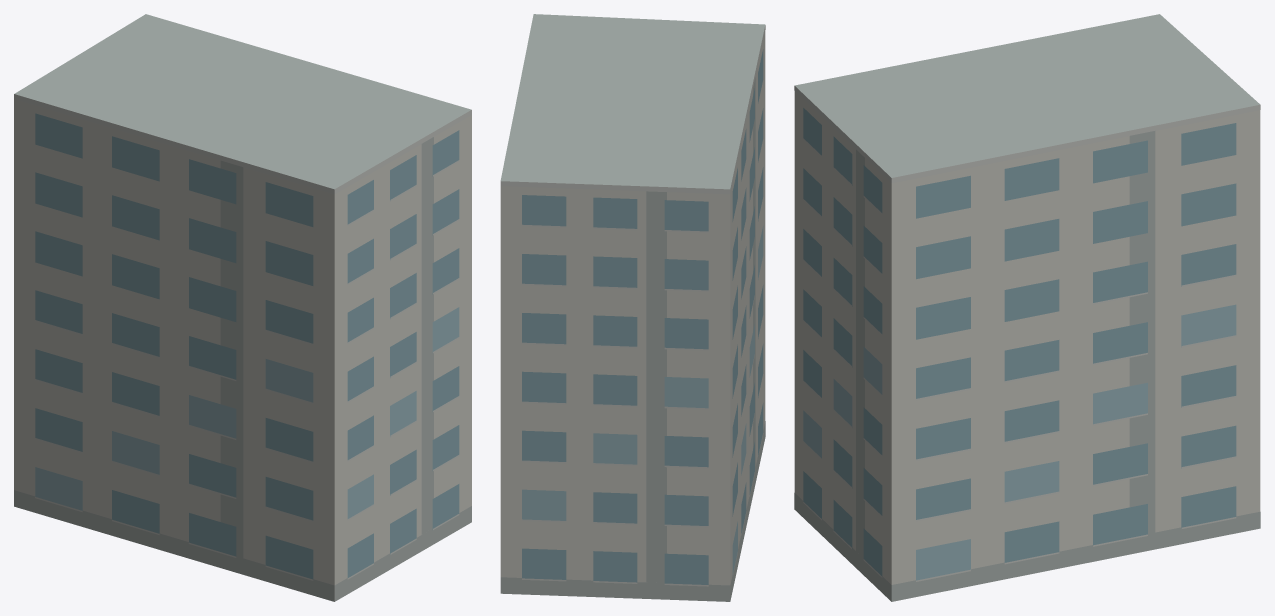
The model's file is survey-upis-33029369.glb.
3 views of the same model, side by side, from view 1: azimuth 30°, elevation 25°; view 2: azimuth 150°, elevation 25°; view 3: azimuth 270°, elevation 25° (orthographic). The views are drawn at different scales.
Visible parts, largest first — view 1: survey-upis-33029369.tmp; view 2: survey-upis-33029369.tmp; view 3: survey-upis-33029369.tmp.
Boxes of the visible parts, bbox=[...] form: survey-upis-33029369.tmp: bbox=[14, 14, 471, 601]; survey-upis-33029369.tmp: bbox=[500, 14, 765, 601]; survey-upis-33029369.tmp: bbox=[794, 14, 1260, 601].
Size of the model in its own units: 16.53 by 19.9 by 19.84.
